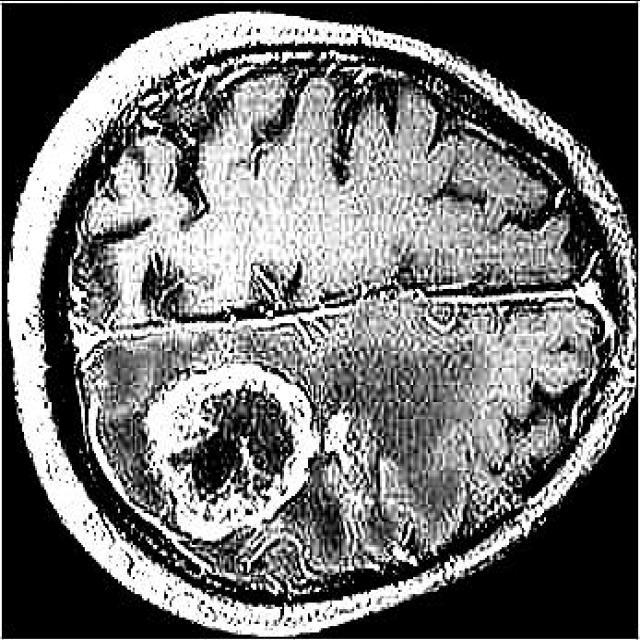tumor: (140, 361, 330, 542)
